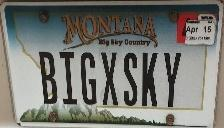B: (36, 48, 61, 105)
G: (80, 50, 102, 106)
I: (57, 50, 80, 105)
K: (141, 50, 161, 108)
S: (122, 50, 139, 107)
X: (99, 50, 121, 106)
Y: (161, 51, 183, 109)
